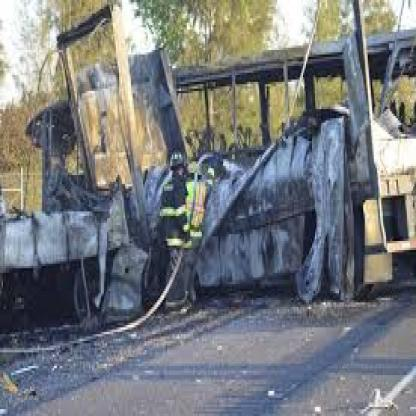accident: (18, 4, 416, 315)
